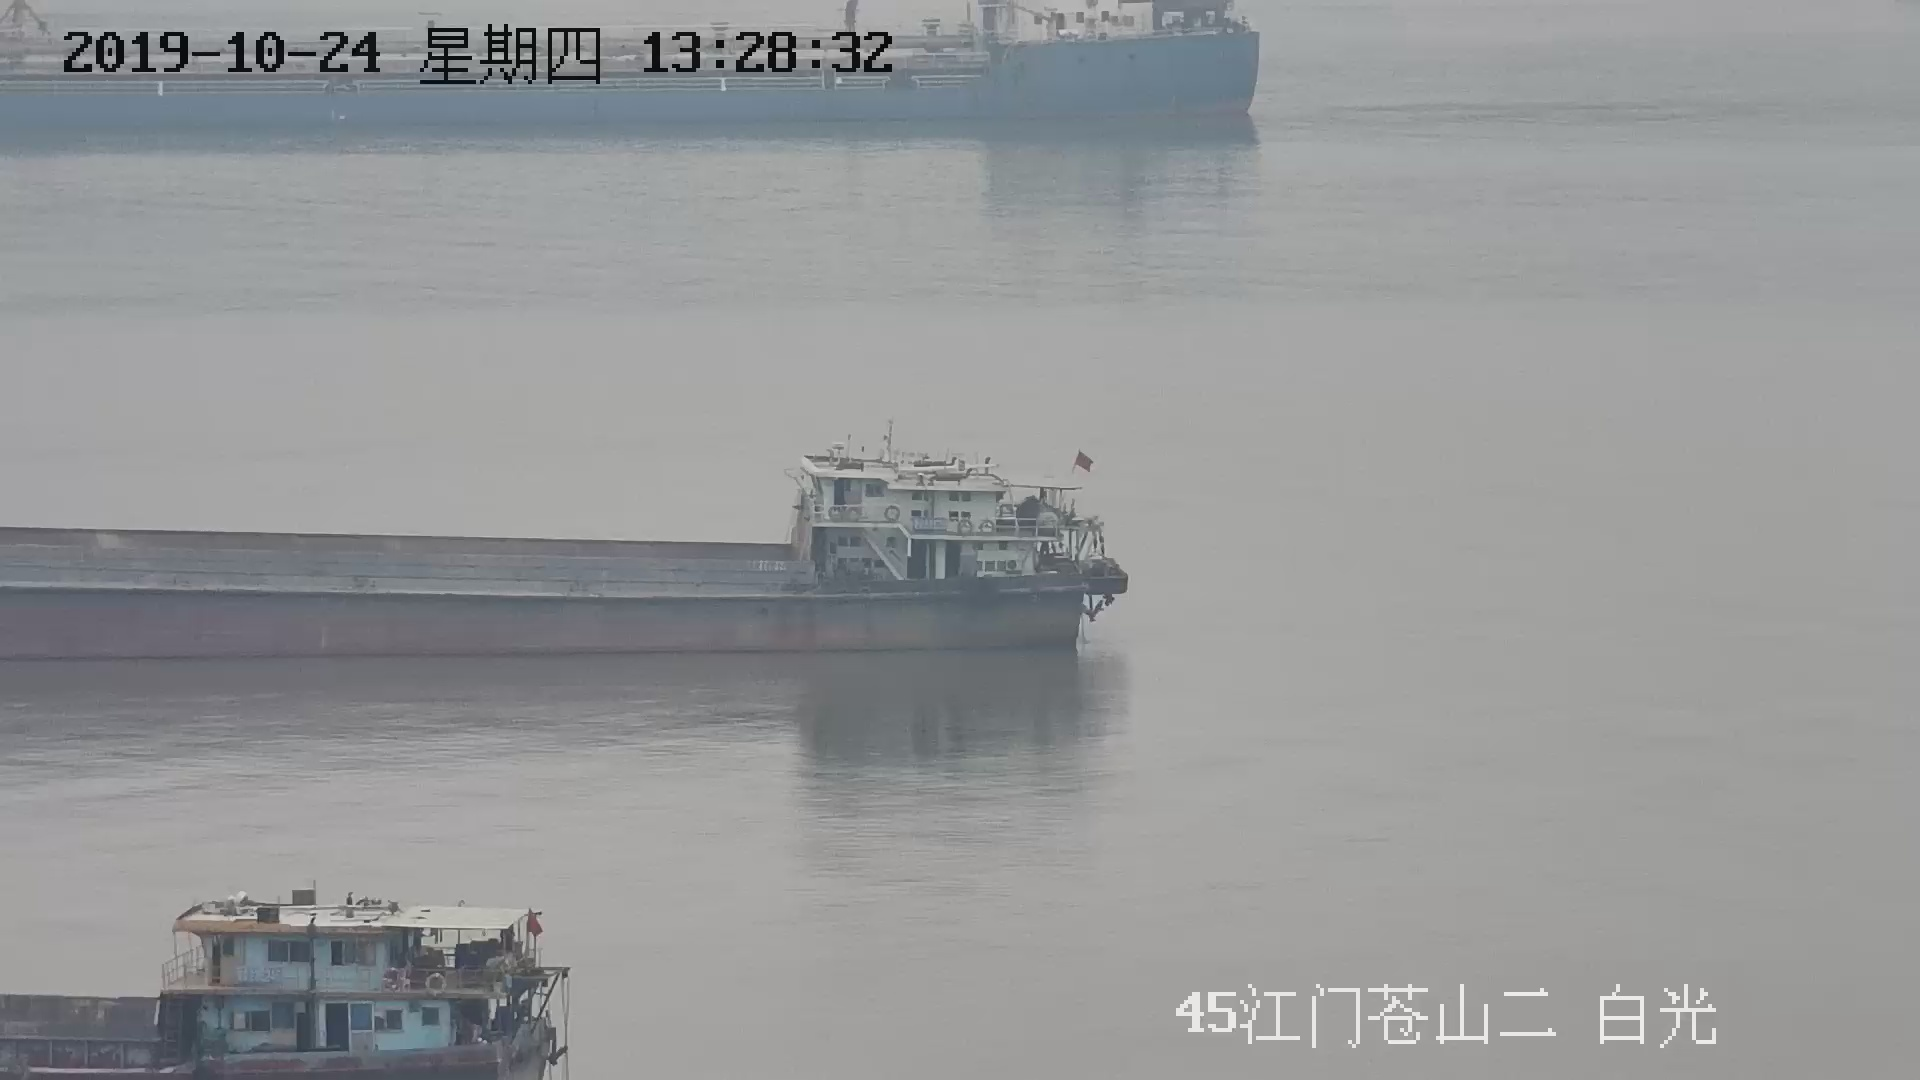ship: (1, 397, 1114, 667), (1, 4, 1261, 140), (1, 831, 568, 1080)
